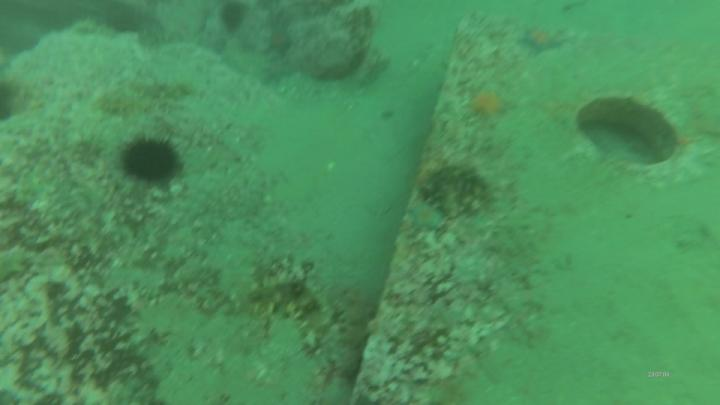echinus: (247, 268, 332, 343), (417, 153, 493, 214), (96, 91, 163, 119), (127, 79, 199, 102)
holothurian: (466, 86, 519, 121), (523, 25, 567, 56)
starfish: (119, 136, 185, 190), (220, 1, 249, 30)
